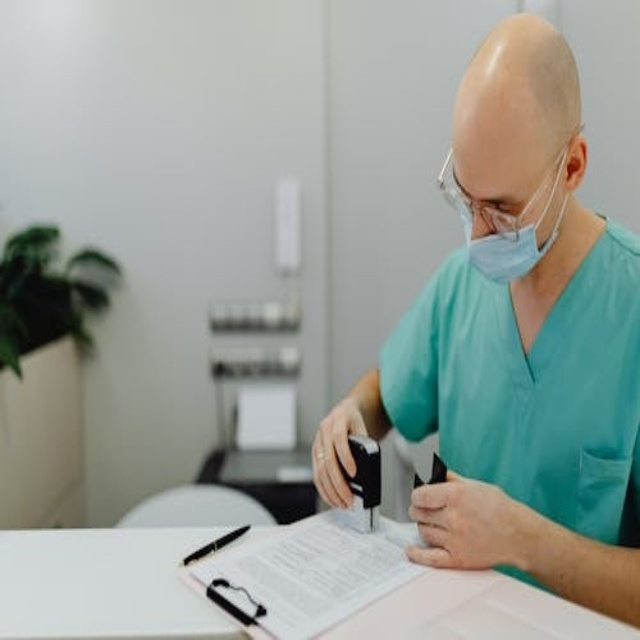Gafas: (434, 136, 568, 246)
Mascara: (455, 147, 566, 284)
Sin_guantes: (402, 472, 526, 573), (310, 400, 379, 514)
